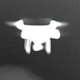plane: (4, 17, 70, 56)
